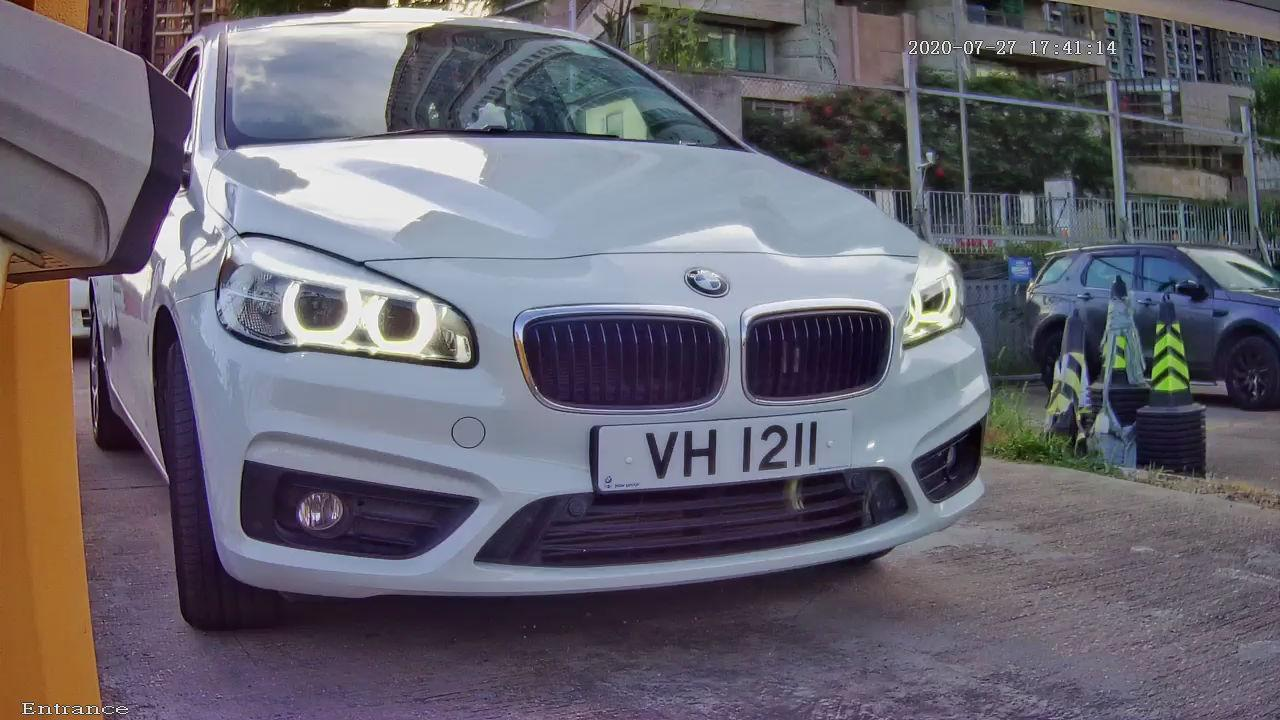privatecar: (75, 23, 1132, 640)
